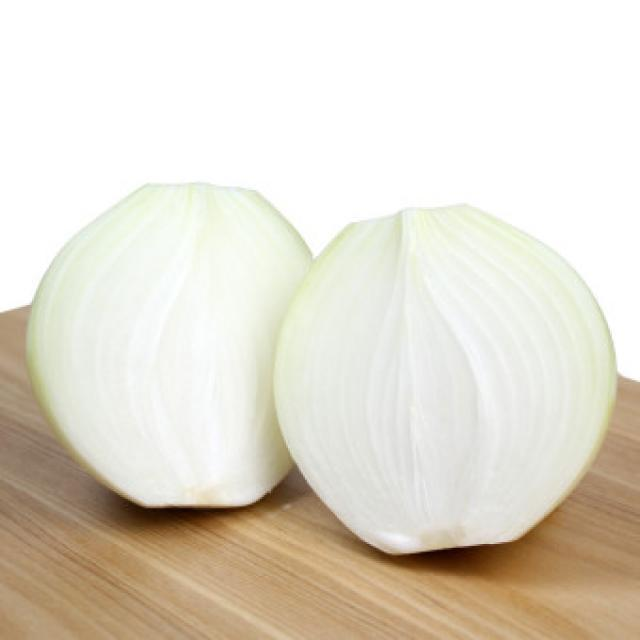onion: (297, 175, 608, 558), (24, 176, 308, 514)
